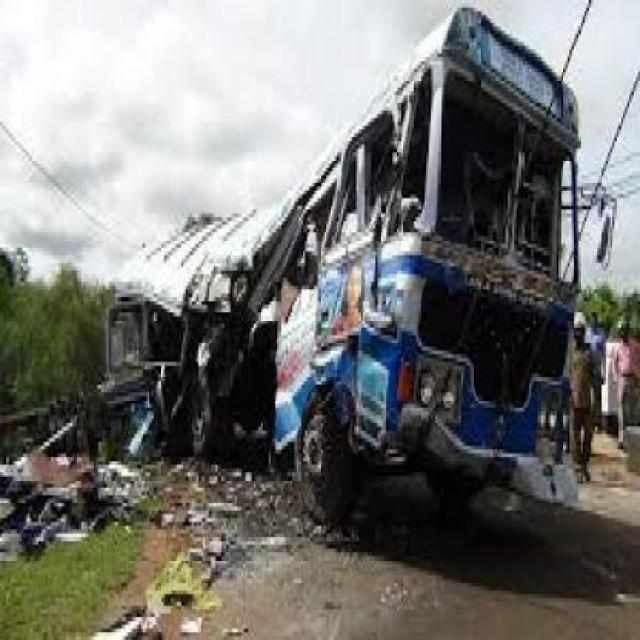accident: (72, 0, 623, 571)
